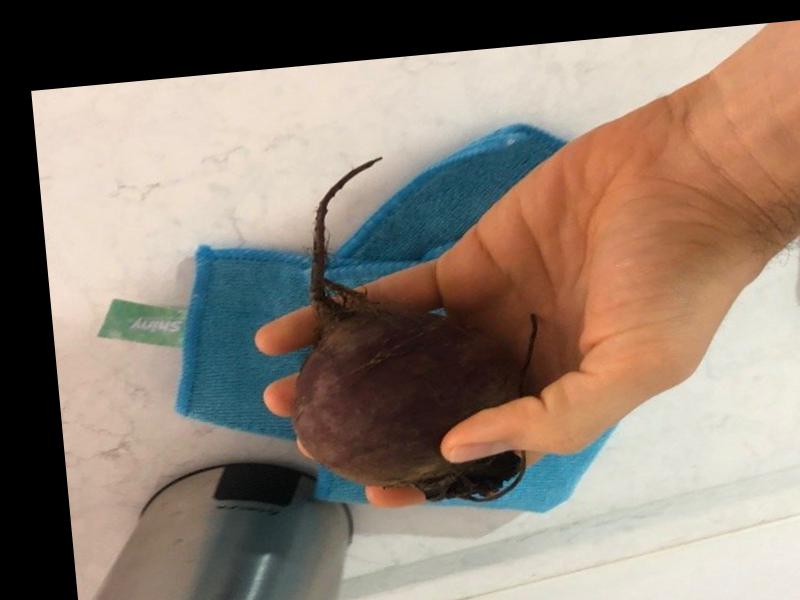Beet: (269, 144, 551, 517)
